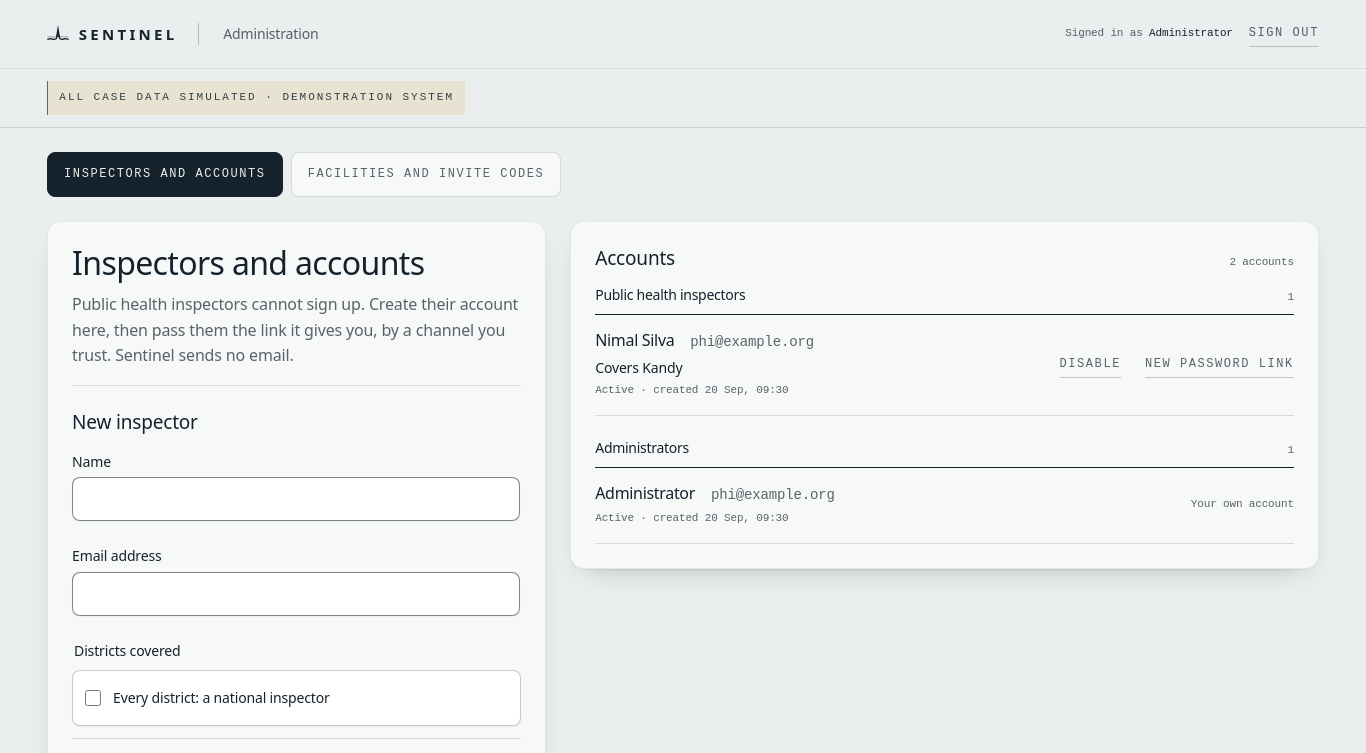
Test: AdminPage: accounts › creates an inspector and shows their link once
Type "Kumari Perera" into the field labelled "Name".
click(296, 499); type("Kumari Perera")  # box left=72, top=477, right=520, bottom=521
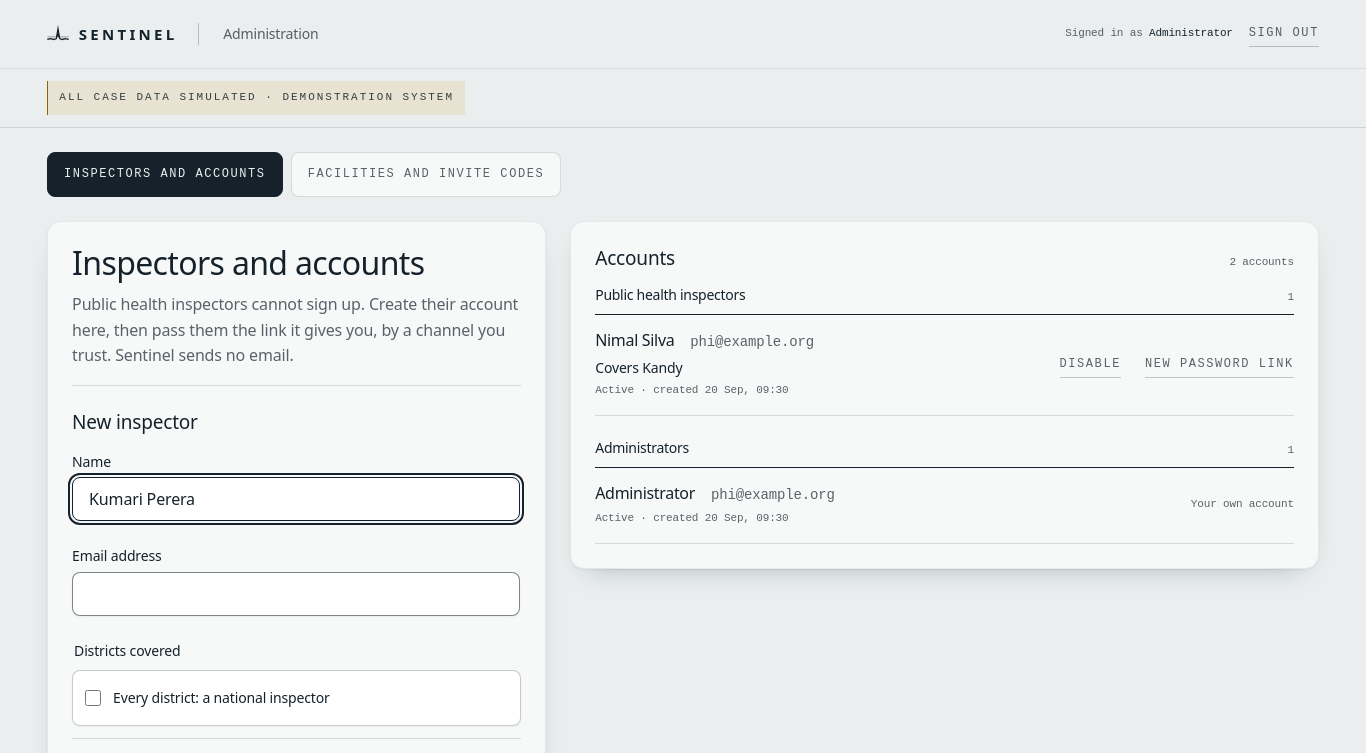
Type "kumari@example.org" into the field labelled "Email address".
click(296, 594); type("kumari@example.org")  # box left=72, top=572, right=520, bottom=616
(page scrolled)
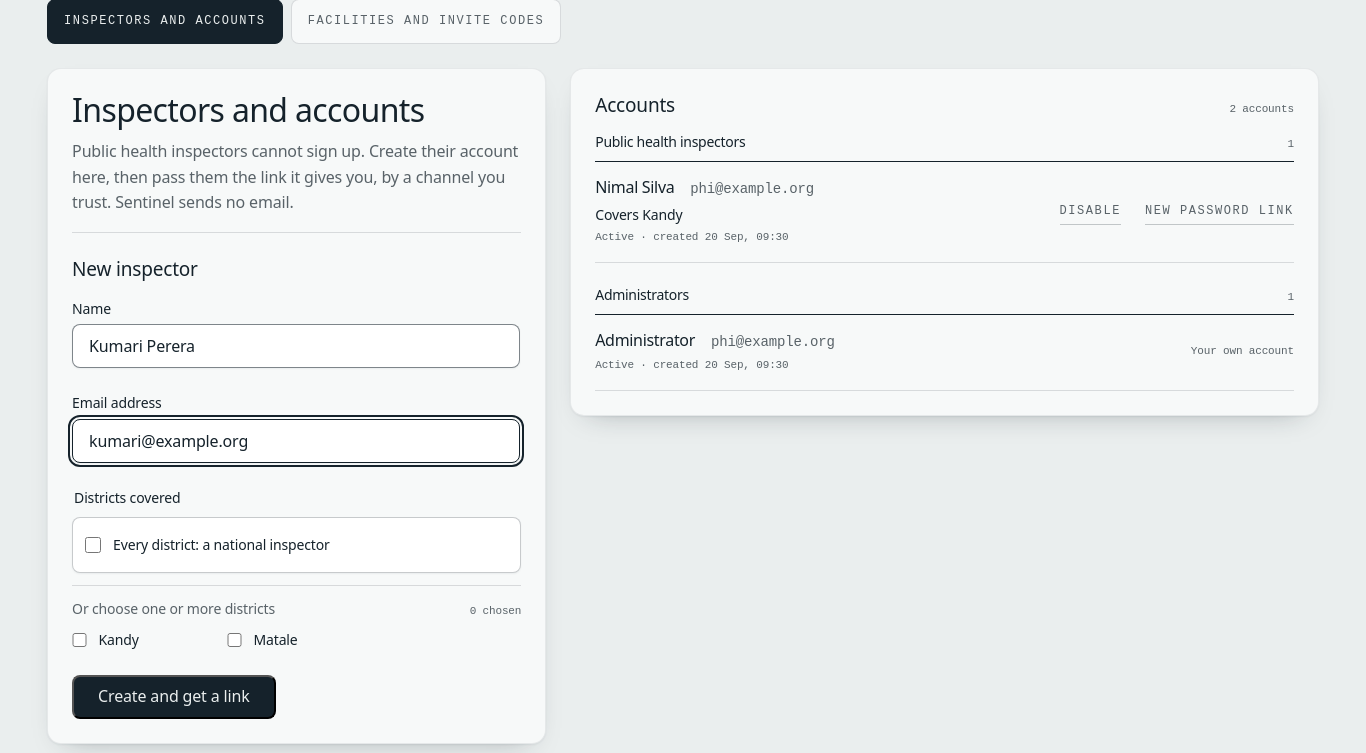
Click the checkbox labelled "Matale".
click(234, 640)  # box left=227, top=633, right=242, bottom=647
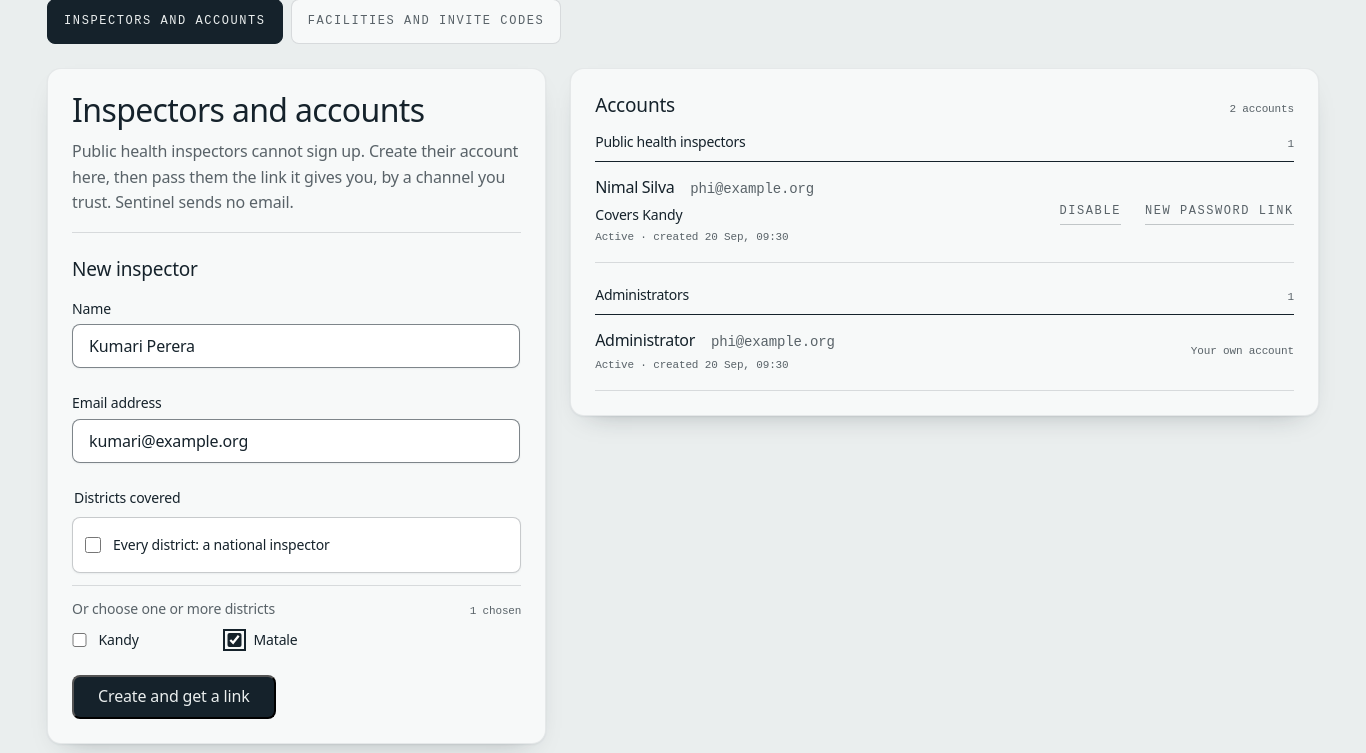
Click the button "Create and get a link".
click(174, 697)  # box left=72, top=675, right=276, bottom=719
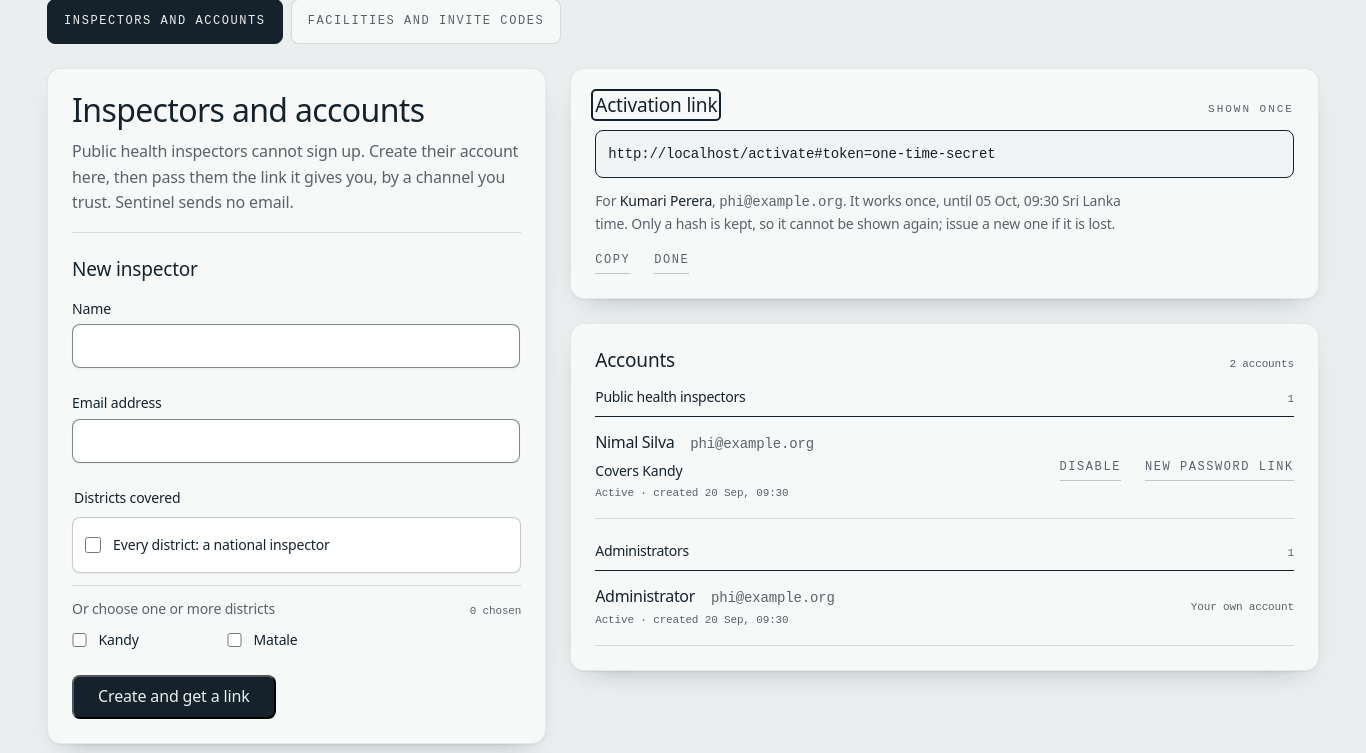
Check: the element "Activation link" shows "Kumari Perera", box left=620, top=191, right=712, bottom=210
Click the button "Done".
click(672, 261)  # box left=654, top=248, right=689, bottom=274
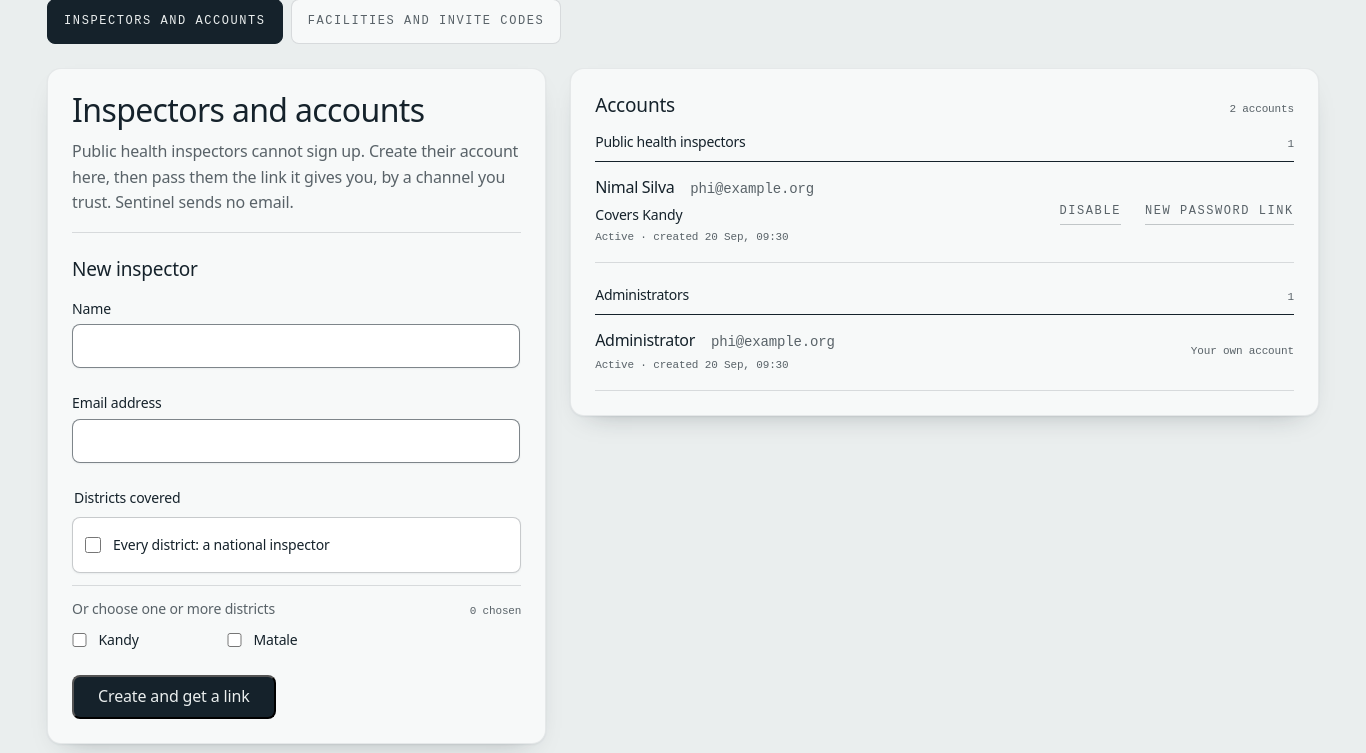
Check: the text "one-time-secret" is gone
